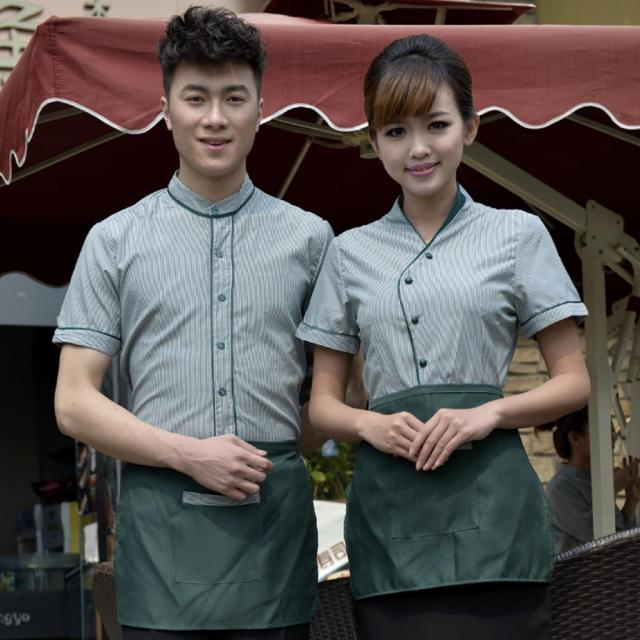nomask: (374, 67, 464, 192), (169, 46, 255, 168)
